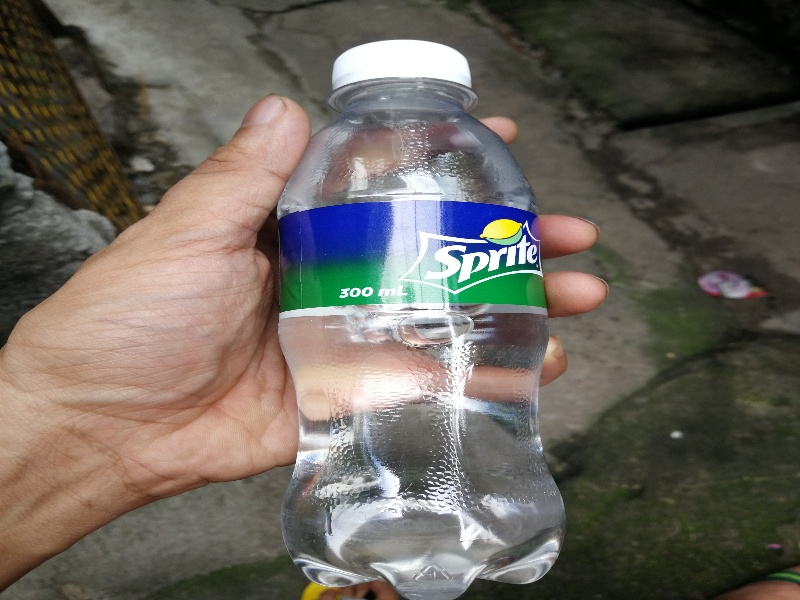PET #1: (267, 37, 568, 591)
